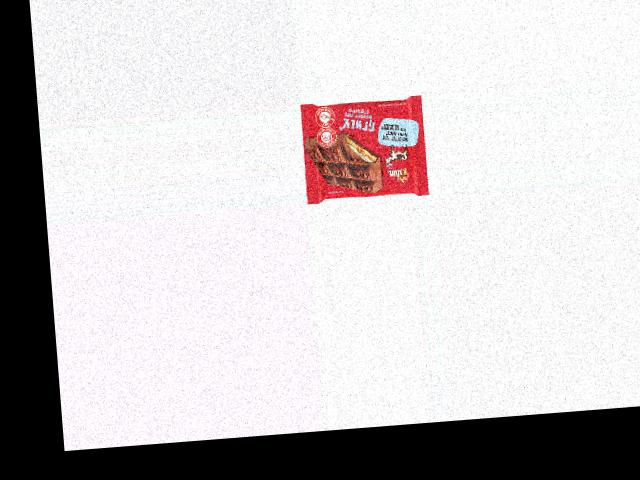chocolate: (301, 94, 425, 203)
